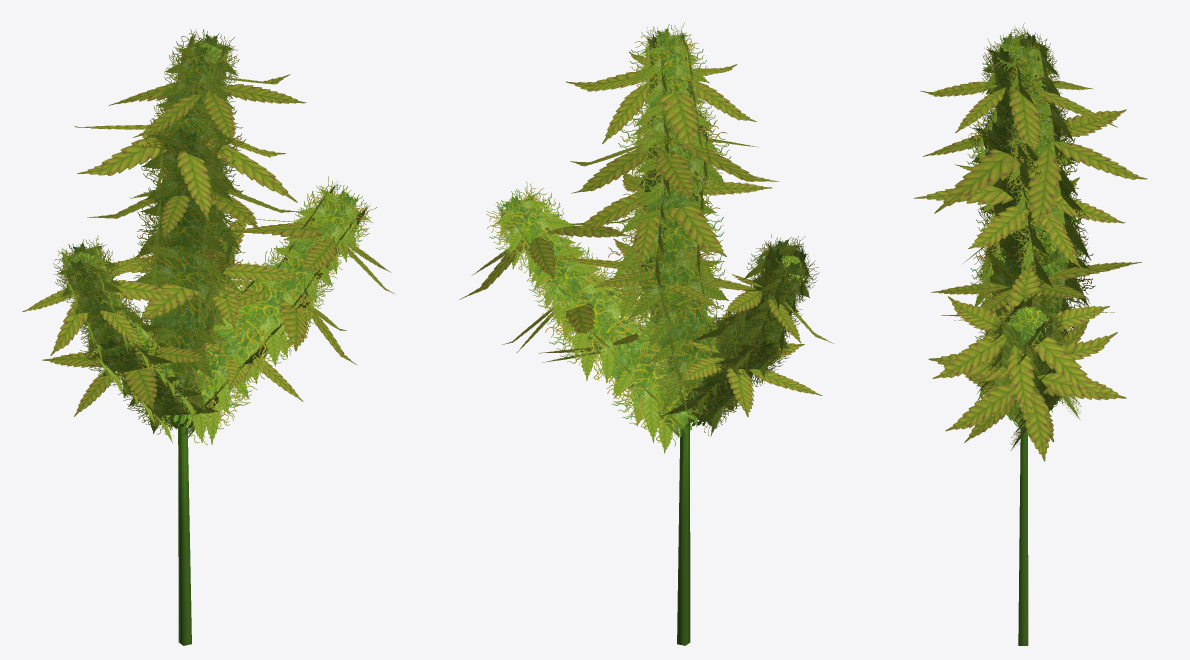
The model's file is CannabisStage04_01.fbx.
3 renders of one model, left to right at view 1: azimuth 30°, elevation 25°; view 2: azimuth 150°, elevation 25°; view 3: azimuth 270°, elevation 25°, orthographic.
Parts seen in each view (by area): view 1: CannabisStage04_01_LOD0; view 2: CannabisStage04_01_LOD0; view 3: CannabisStage04_01_LOD0.
Part boxes in pixels (box(x1,y1,x2,y2)): CannabisStage04_01_LOD0: box(22, 29, 395, 645); CannabisStage04_01_LOD0: box(459, 22, 833, 645); CannabisStage04_01_LOD0: box(913, 23, 1147, 645).
Size of what is drawn, in the model's own units: 61.3 by 97.06 by 40.39.
